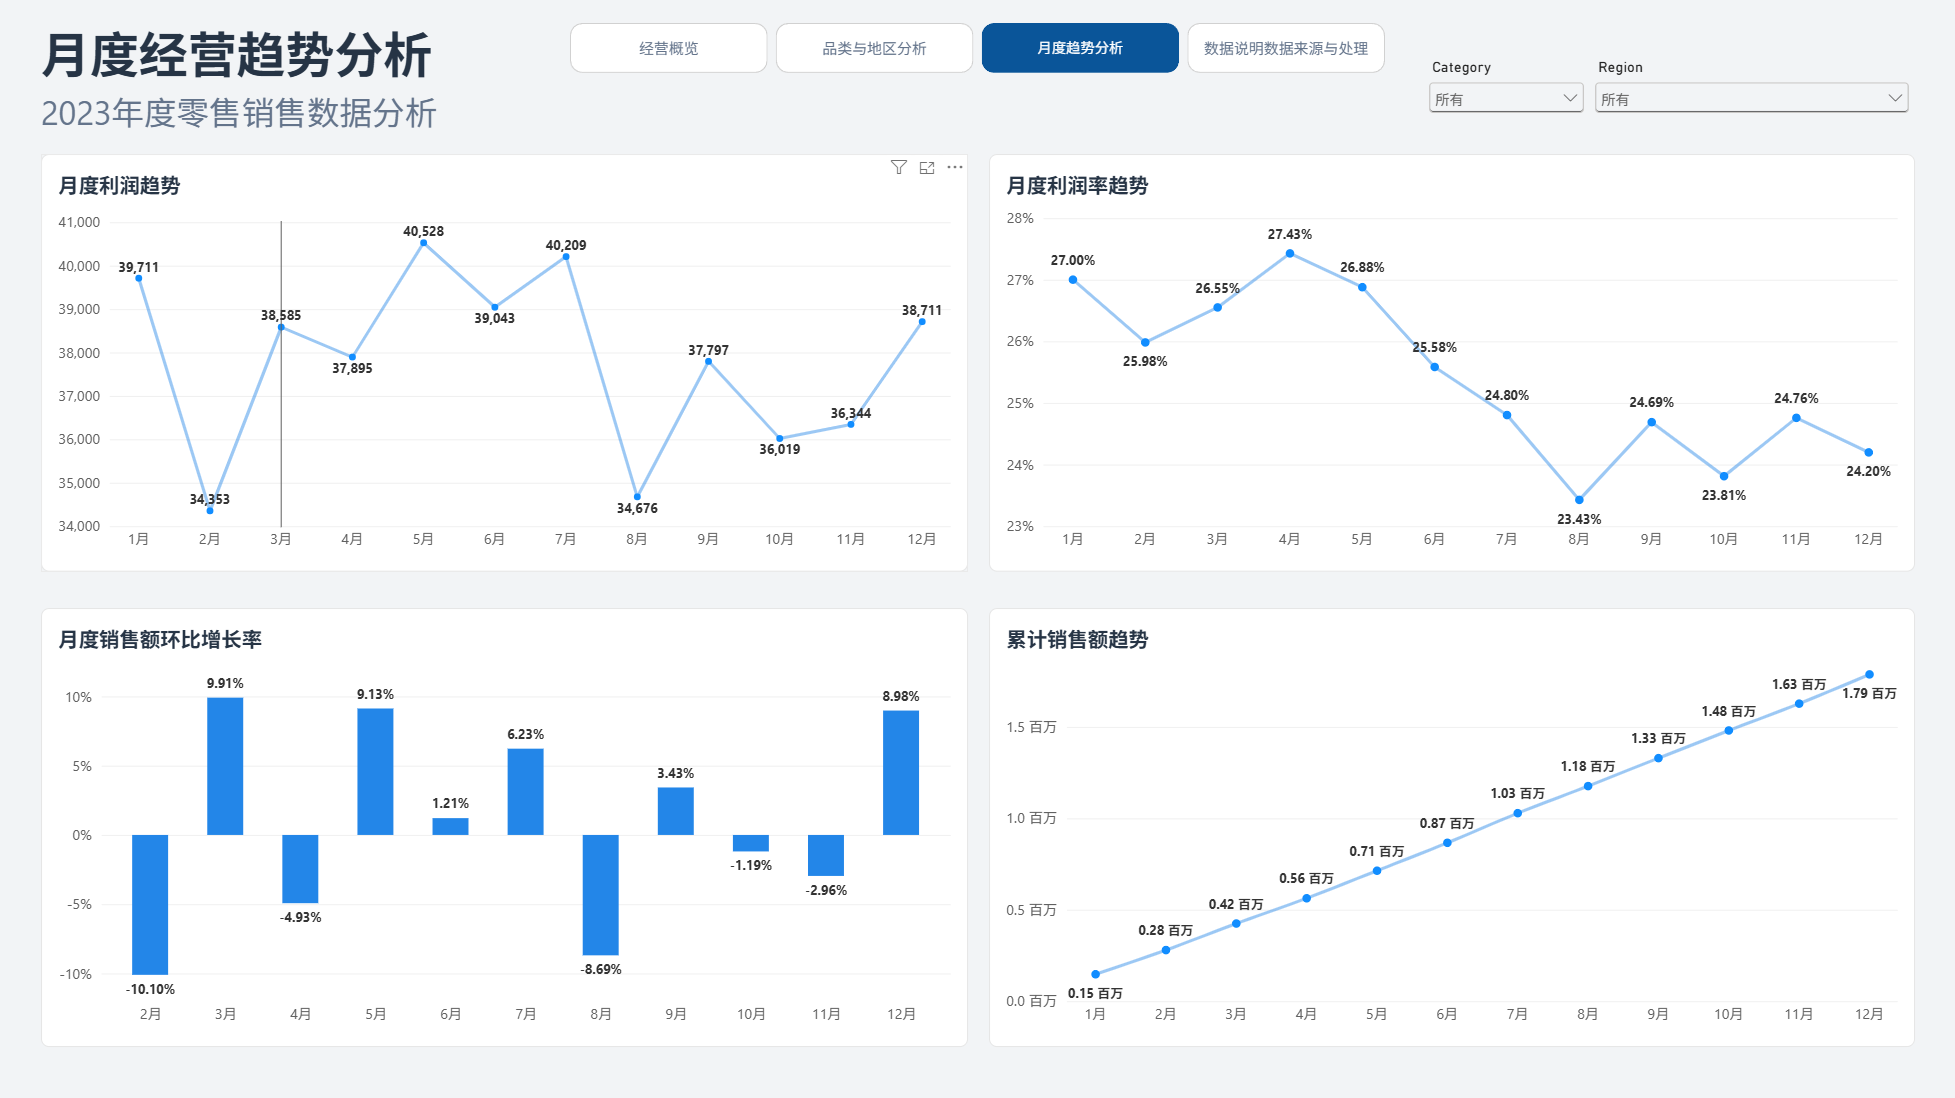

What the dashboard file says about the page in this screenshot:
{"tool":"powerbi","page":{"name":"月度趋势分析","canvas":[1920,1080],"ordinal":2},"visuals":[{"type":"lineChart","title":"月度利润趋势","fields":{"Category":["Calendar.月份"],"Y":["sales_analysis retail_sales_clean.总利润"]},"box":[40.2,152.1,909.9,410.3],"z":0},{"type":"lineChart","title":"月度利润率趋势","fields":{"Category":["Calendar.月份"],"Y":["sales_analysis retail_sales_clean.整体利润率"]},"box":[970.8,152.1,909,410.3],"z":1000},{"type":"lineChart","title":"累计销售额趋势","fields":{"Category":["Calendar.月份"],"Y":["sales_analysis retail_sales_clean.累计销售额"]},"box":[970.8,597.8,909,430.9],"z":2000},{"type":"clusteredColumnChart","title":"月度销售额环比增长率","fields":{"Category":["Calendar.月份"],"Y":["sales_analysis retail_sales_clean.销售额环比增长率"]},"box":[40.2,597.8,909.9,430.9],"z":3000},{"type":"textbox","box":[40.2,16.7,419.1,135.5],"z":4000},{"type":"slicer","fields":{"Values":["sales_analysis retail_sales_clean.Category"]},"box":[1397.5,58.4,162,78.5],"z":5000},{"type":"slicer","fields":{"Values":["sales_analysis retail_sales_clean.Region"]},"box":[1560.9,58.4,318,150],"z":6000},{"type":"pageNavigator","box":[559.5,23.6,801,49.1],"z":7000}]}

Visuals, with their boxes in screenshot pixels (x1, y1, x2, y2), scaled from the page's 1920x1080 canvas onto the 1955x1098 screenshot:
"月度利润趋势" lineChart: 41 155 967 572
"月度利润率趋势" lineChart: 988 155 1914 572
"累计销售额趋势" lineChart: 988 608 1914 1046
"月度销售额环比增长率" clusteredColumnChart: 41 608 967 1046
textbox: 41 17 468 155
slicer - sales_analysis retail_sales_clean.Category: 1423 59 1588 139
slicer - sales_analysis retail_sales_clean.Region: 1589 59 1913 212
pageNavigator: 570 24 1385 74
